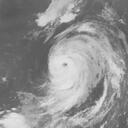cyclone: (46, 23, 122, 107)
